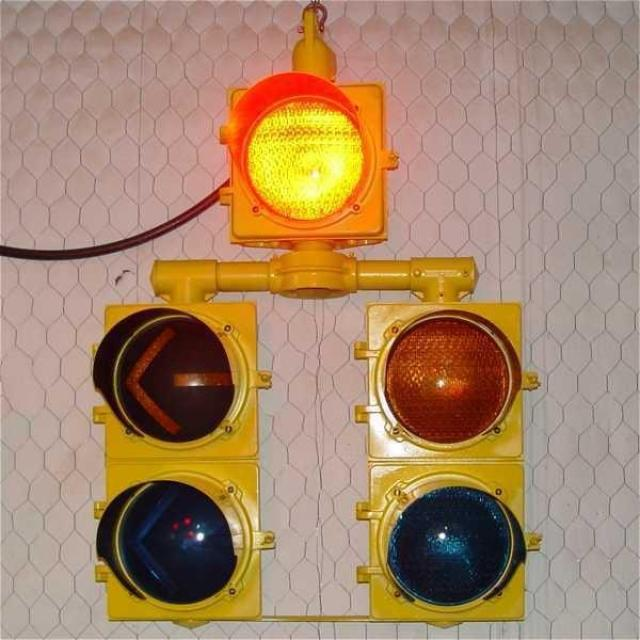Traffic Light -Yellow-: (215, 66, 415, 255)
